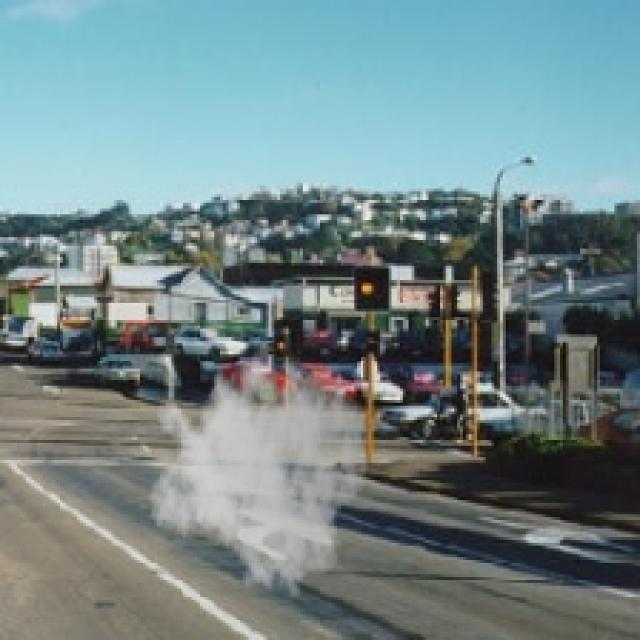Smoke: (148, 323, 372, 600)
